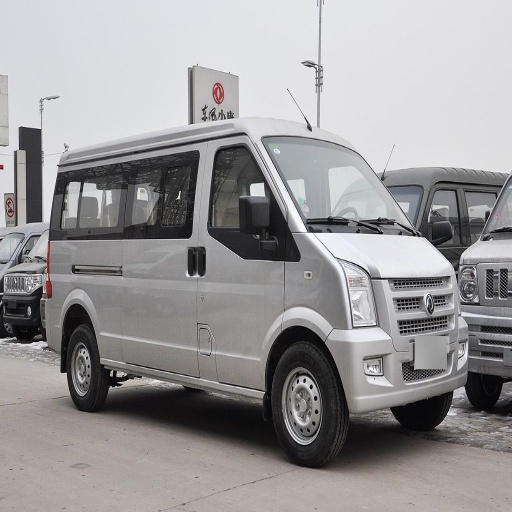front_bumper: (329, 274, 472, 410)
front_glass: (269, 139, 383, 211)
front_right_door: (177, 140, 285, 386)
front_right_light: (344, 265, 380, 325)
trunk: (35, 242, 183, 330)
